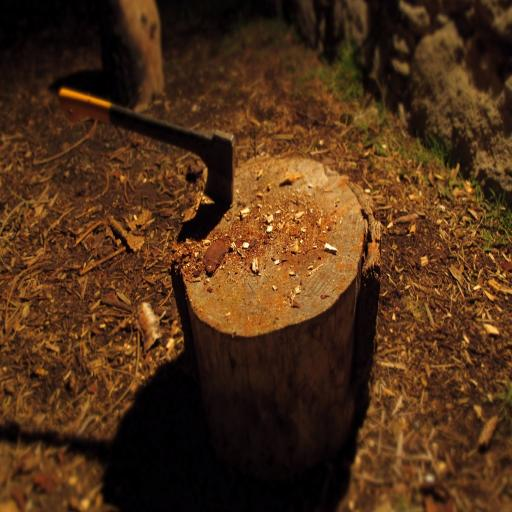Axe: (58, 84, 238, 212)
